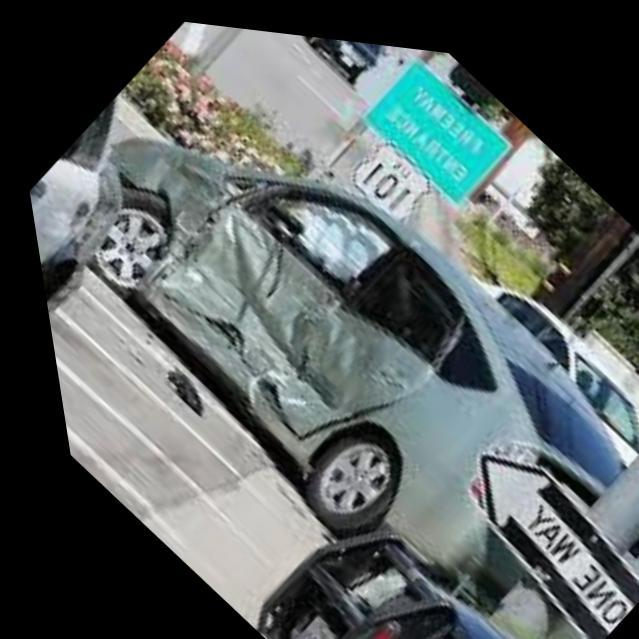crash: (111, 131, 458, 442)
